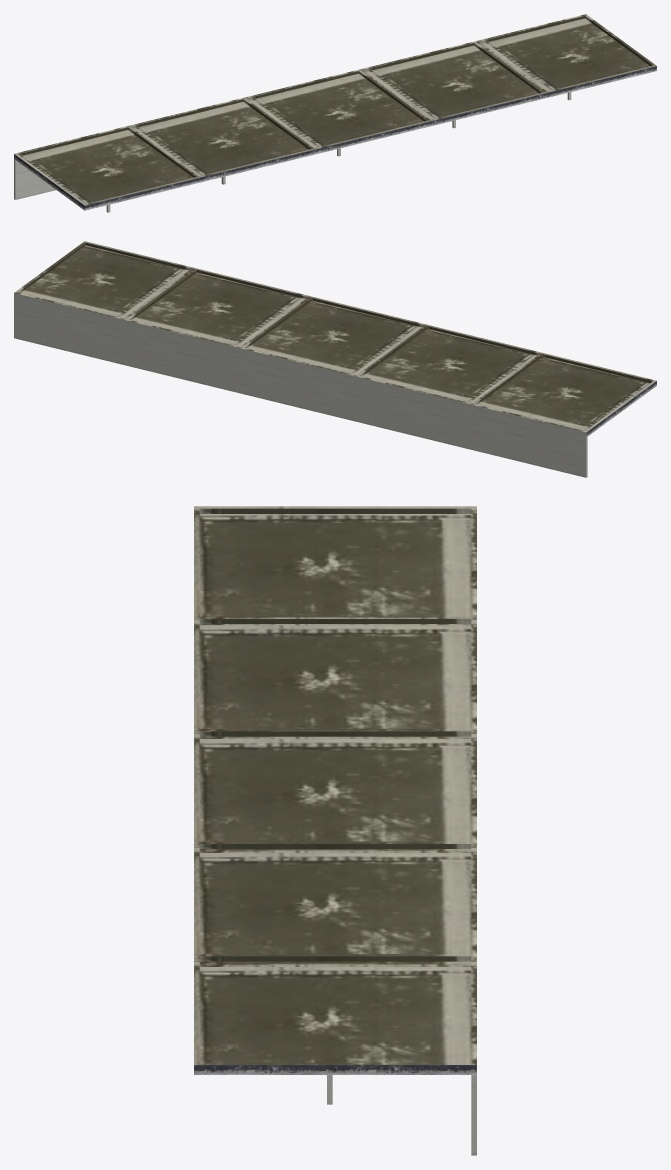
File: Maintanence Hangar.gltf
3 views of the same model, one above another, from view 1: azimuth 30°, elevation 25°; view 2: azimuth 150°, elevation 25°; view 3: azimuth 270°, elevation 25° (orthographic). The views are drawn at different scales.
Parts seen in each view (by area): view 1: node5, node2, node1; view 2: node5, node1, node2; view 3: node5, node2.
Part boxes in pixels (bbox=[...]): node5: bbox=[14, 14, 656, 205]; node2: bbox=[14, 66, 656, 210]; node1: bbox=[14, 92, 571, 212]; node5: bbox=[14, 241, 656, 432]; node1: bbox=[14, 293, 587, 477]; node2: bbox=[586, 381, 656, 437]; node5: bbox=[194, 506, 476, 1064]; node2: bbox=[194, 1065, 476, 1074].
Size of the model in its own units: 70 by 5.3 by 15.
